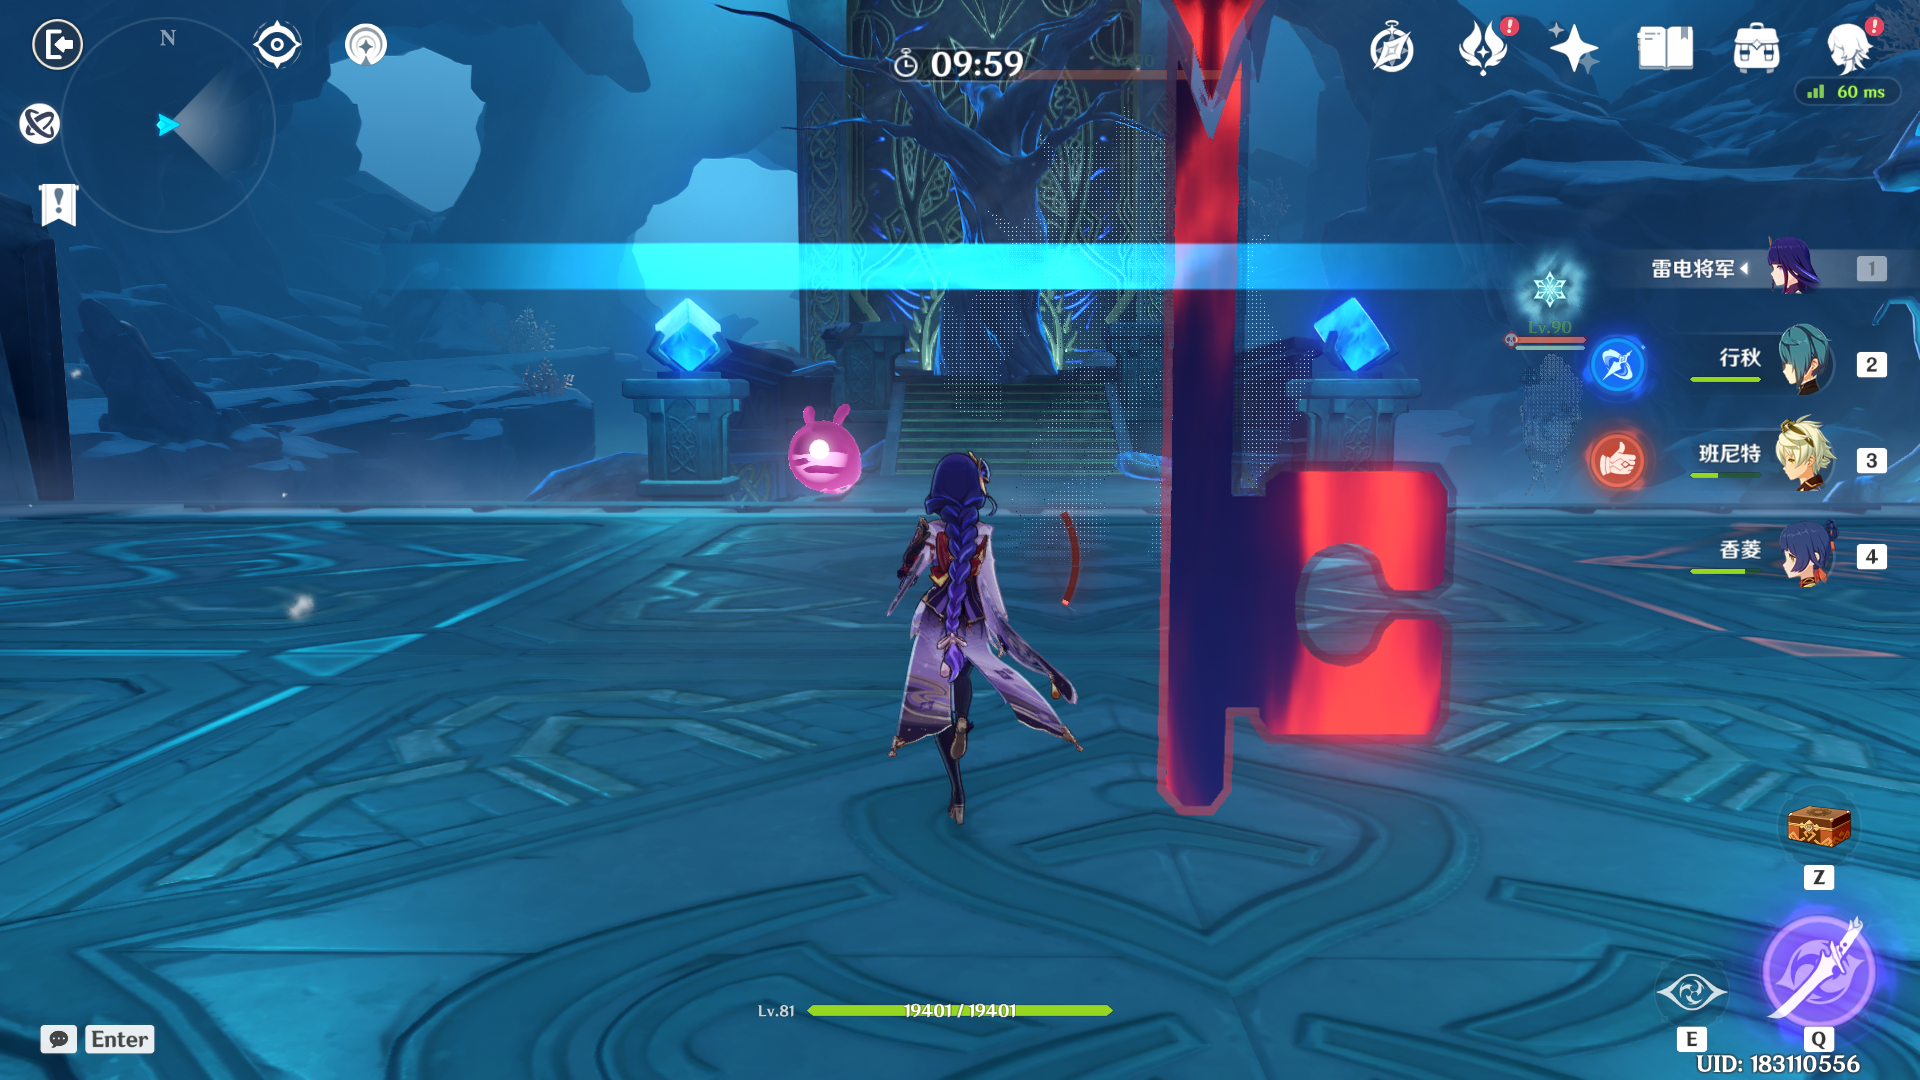character: (861, 410, 1112, 837)
